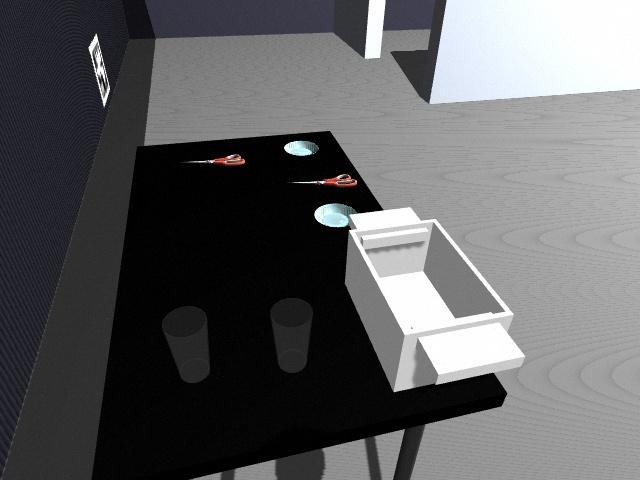cup: (162, 306, 211, 383), (270, 298, 313, 372)
plate: (313, 201, 359, 228), (283, 140, 319, 156)
scissors: (288, 173, 357, 188), (182, 155, 245, 167)
